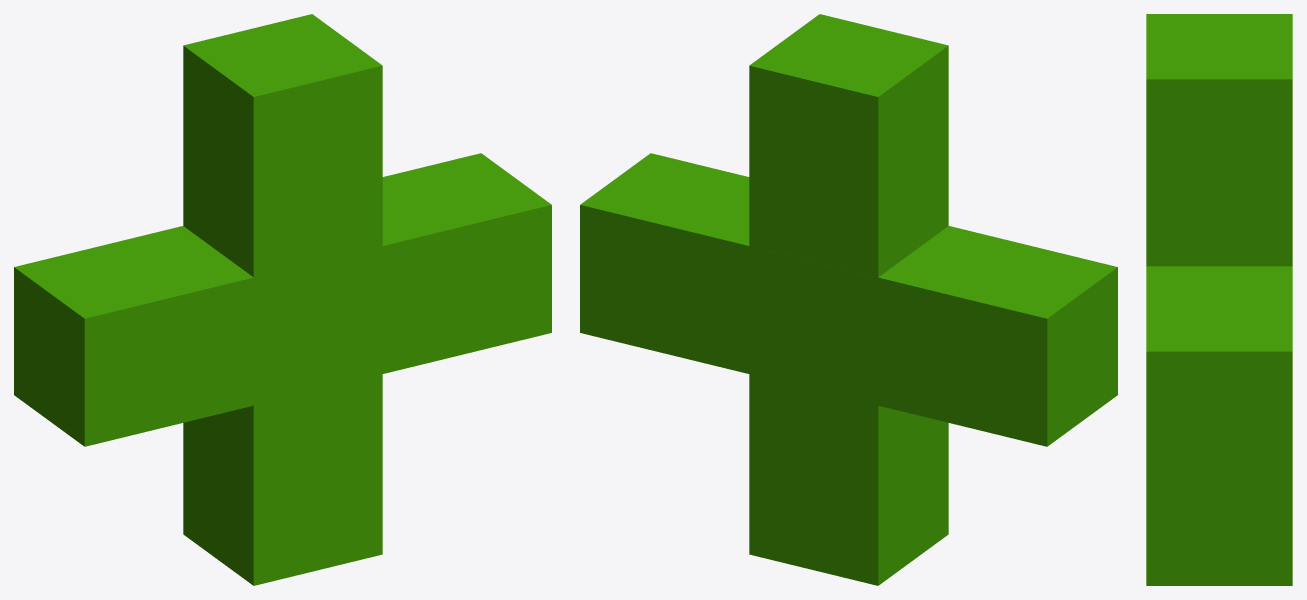
Rendered from Health.fbx.
The picture shows the model from 3 angles, left to right: view 1: azimuth 30°, elevation 25°; view 2: azimuth 150°, elevation 25°; view 3: azimuth 270°, elevation 25°; orthographic projection. The views are drawn at different scales.
Visible parts, largest first — view 1: pCube3; view 2: pCube3; view 3: pCube3.
Part boxes in pixels (x1,y1,x2,y2): pCube3: (14,14,551,585); pCube3: (580,14,1117,585); pCube3: (1146,14,1292,585).
Size of the model in its own units: 75.21 by 75.21 by 19.7.
